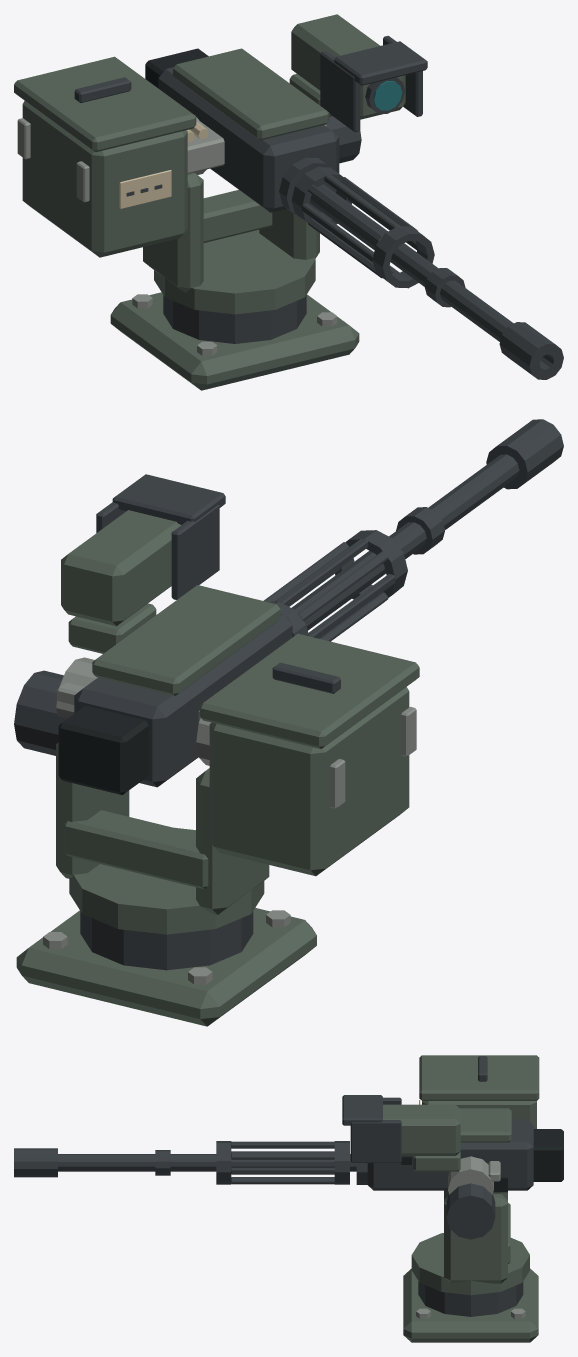
File: iron_dust_mg_02.glb
3 views of the same model, one above another, from view 1: azimuth 30°, elevation 25°; view 2: azimuth 150°, elevation 25°; view 3: azimuth 270°, elevation 25° (orthographic). The views are drawn at different scales.
Visible parts, largest first — view 1: MGFeed, MGAmmoBox, MGCradleDetails, MGBarrelDetails, MGBase, MGReceiver, MGBaseDetails, MGBarrel, MGCameraHousing, MGSupport; view 2: MGFeed, MGAmmoBox, MGCradleDetails, MGBase, MGBarrelDetails, MGCameraHousing, MGReceiver, MGBaseDetails, MGSupport, MGBarrel; view 3: MGFeed, MGCradleDetails, MGBarrelDetails, MGBase, MGReceiver, MGBarrel, MGCameraHousing, MGBaseDetails, MGAmmoBox.
Part boxes in pixels (x1,y1,x2,y2): MGFeed: [14, 35, 427, 209]; MGAmmoBox: [22, 101, 187, 257]; MGCradleDetails: [143, 115, 361, 314]; MGBarrelDetails: [279, 157, 563, 379]; MGBase: [110, 292, 359, 390]; MGReceiver: [158, 67, 339, 212]; MGBaseDetails: [132, 294, 337, 355]; MGBarrel: [309, 184, 513, 341]; MGCameraHousing: [291, 14, 405, 119]; MGSupport: [203, 190, 272, 242]; MGFeed: [57, 474, 419, 808]; MGAmmoBox: [209, 687, 409, 876]; MGCradleDetails: [14, 657, 269, 934]; MGBase: [16, 908, 316, 1026]; MGBarrelDetails: [263, 419, 563, 641]; MGCameraHousing: [61, 510, 180, 626]; MGReceiver: [74, 613, 292, 787]; MGBaseDetails: [43, 910, 290, 984]; MGSupport: [64, 810, 208, 889]; MGBarrel: [291, 454, 519, 630]; MGFeed: [342, 1055, 563, 1192]; MGCradleDetails: [411, 1156, 529, 1295]; MGBarrelDetails: [14, 1141, 367, 1184]; MGBase: [403, 1268, 538, 1342]; MGReceiver: [367, 1119, 533, 1190]; MGBarrel: [58, 1154, 356, 1171]; MGCameraHousing: [383, 1104, 460, 1155]; MGBaseDetails: [416, 1281, 525, 1318]; MGAmmoBox: [422, 1101, 536, 1128].
Bounding box in the file's own units: 0.723 × 0.7675 × 1.63.
